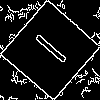I: (25, 25, 69, 66)
